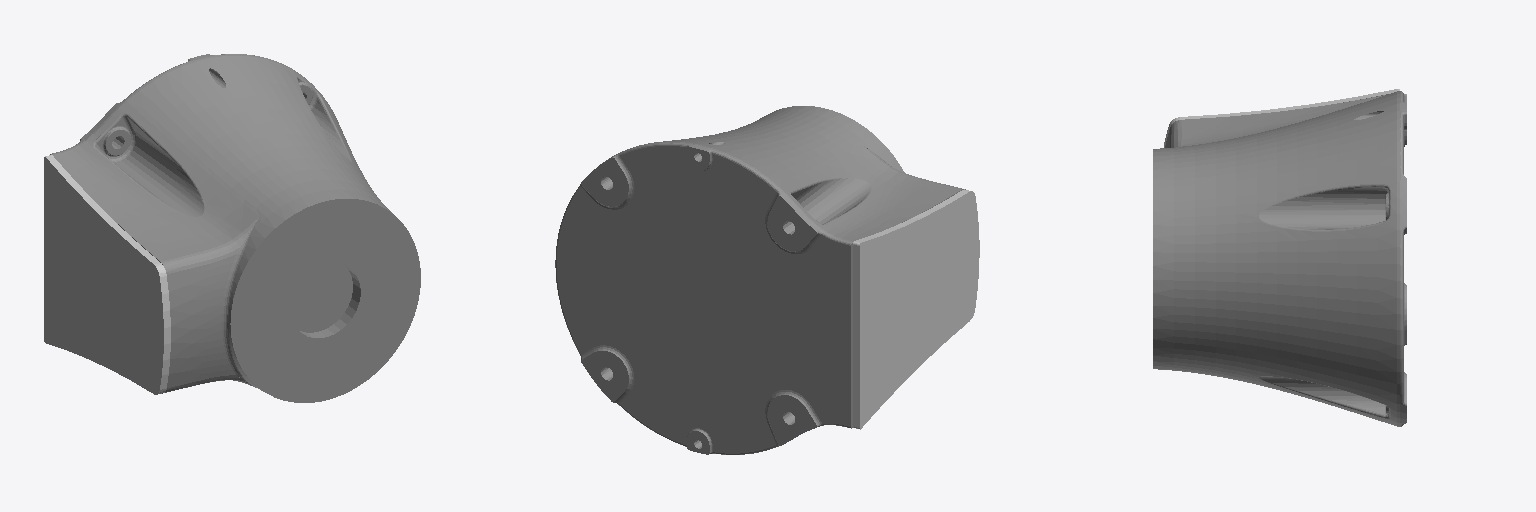
The picture shows the model from 3 angles: view 1: azimuth 30°, elevation 25°; view 2: azimuth 150°, elevation 25°; view 3: azimuth 270°, elevation 25°; orthographic projection.
Visible parts, largest first — view 1: link_0; view 2: link_0; view 3: link_0.
Part boxes in pixels (bbox=[...]): link_0: bbox=[44, 54, 420, 402]; link_0: bbox=[555, 106, 979, 454]; link_0: bbox=[1153, 89, 1406, 426].
Bounding box in the file's own units: 0.217 × 0.2076 × 0.157.